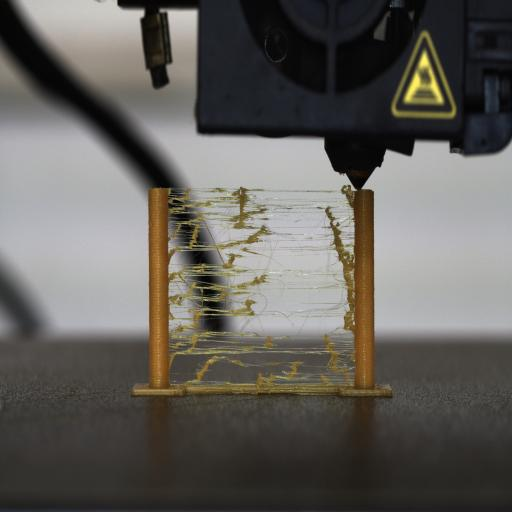stringing: (168, 180, 356, 388)
